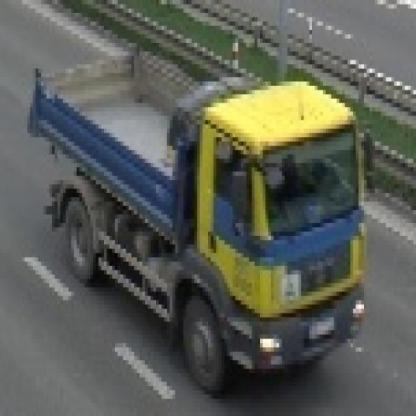truck: (34, 18, 373, 387)
